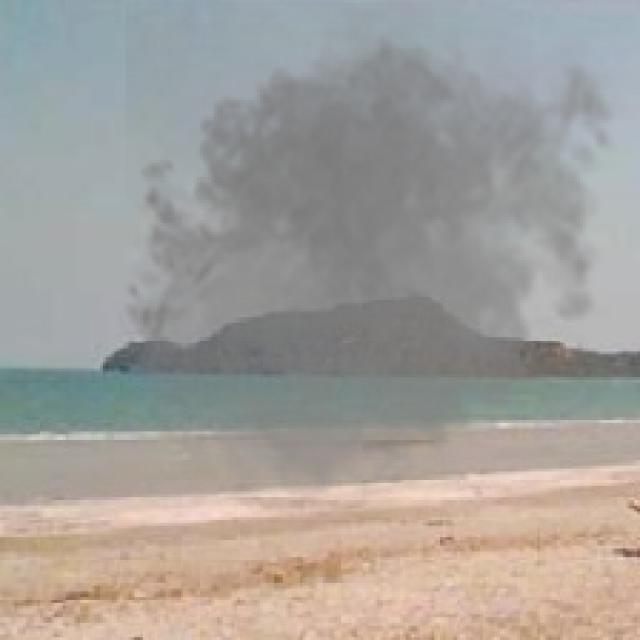smoke: (114, 3, 629, 523)
